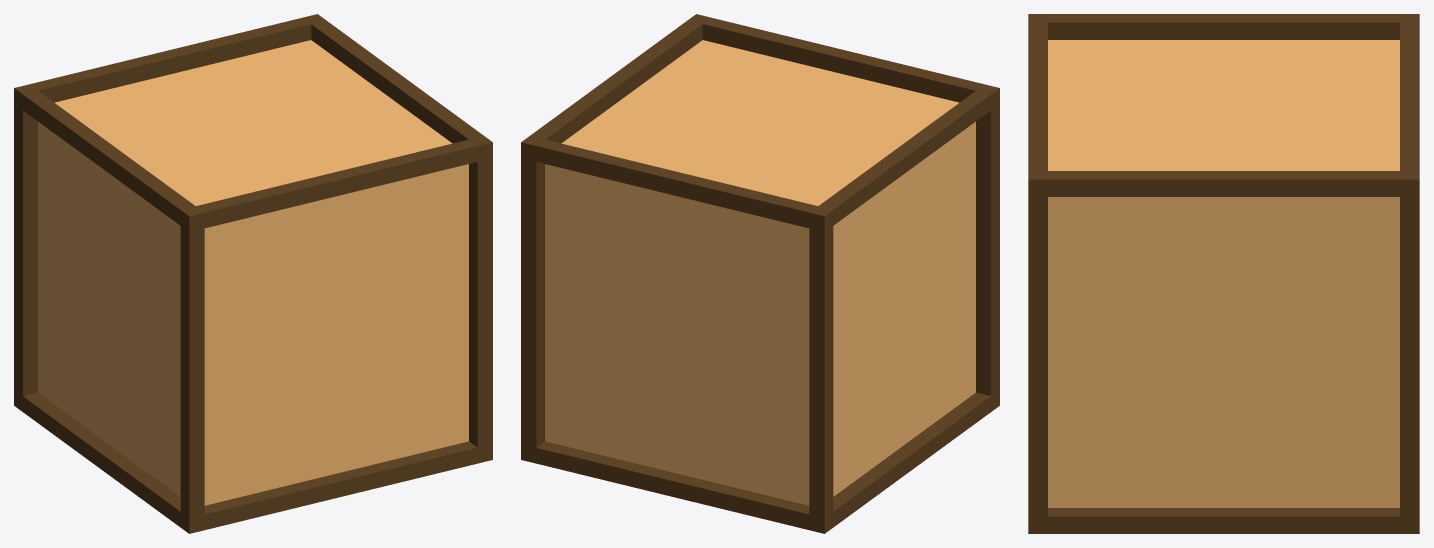
The model's file is Crate_LOD2.fbx.
The picture shows the model from 3 angles, left to right: view 1: azimuth 30°, elevation 25°; view 2: azimuth 150°, elevation 25°; view 3: azimuth 270°, elevation 25°; orthographic projection. The views are drawn at different scales.
Visible parts, largest first — view 1: Lod2; view 2: Lod2; view 3: Lod2.
Part boxes in pixels (<box>): Lod2: <box>14,14,492,533</box>; Lod2: <box>521,14,999,533</box>; Lod2: <box>1028,14,1419,533</box>.
Size of the model in its own units: 200 by 200 by 200.
